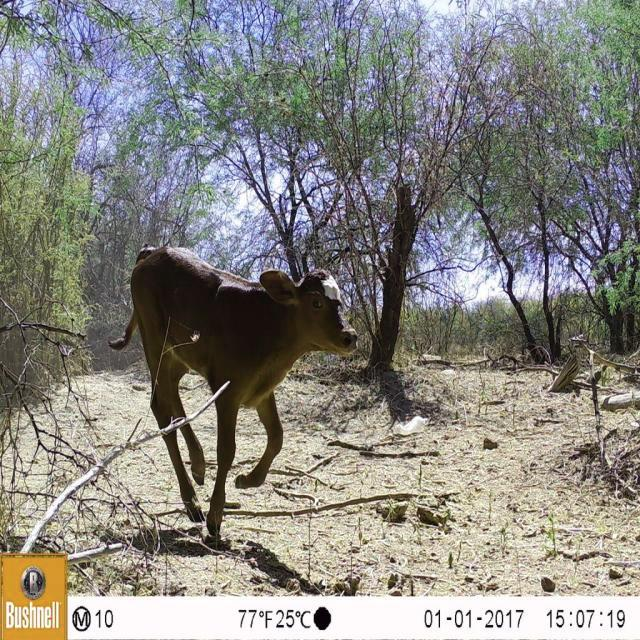cow: (111, 248, 358, 538), (181, 425, 206, 484)
